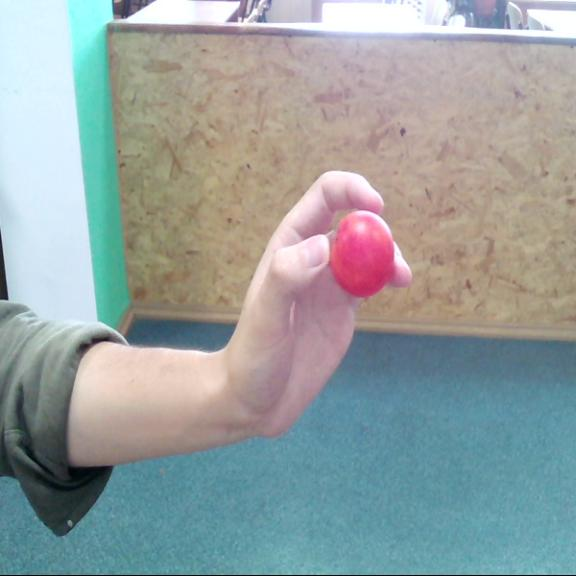ball: (331, 213, 394, 301)
